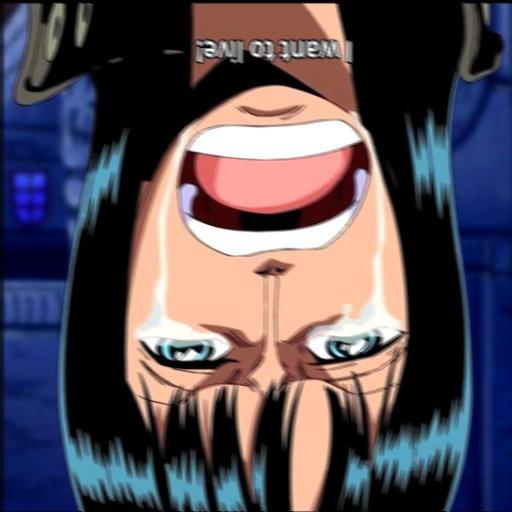NicoRobin: (13, 1, 486, 511)
